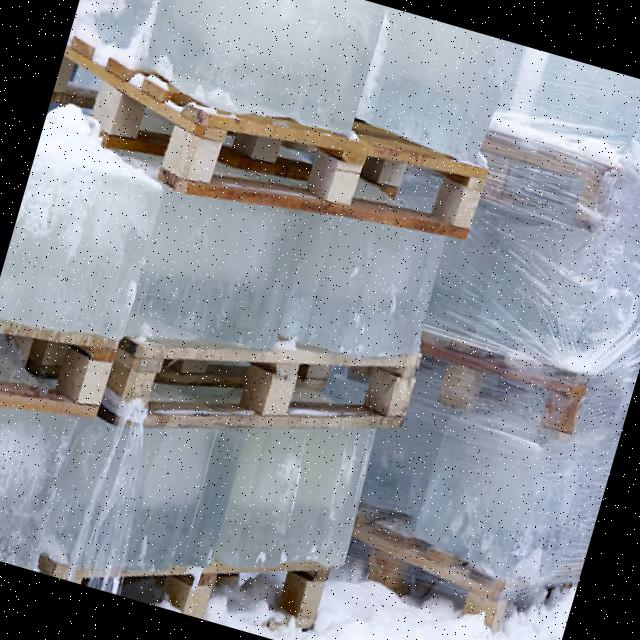Wooden-Pallets: (51, 21, 491, 239), (120, 341, 423, 448)
